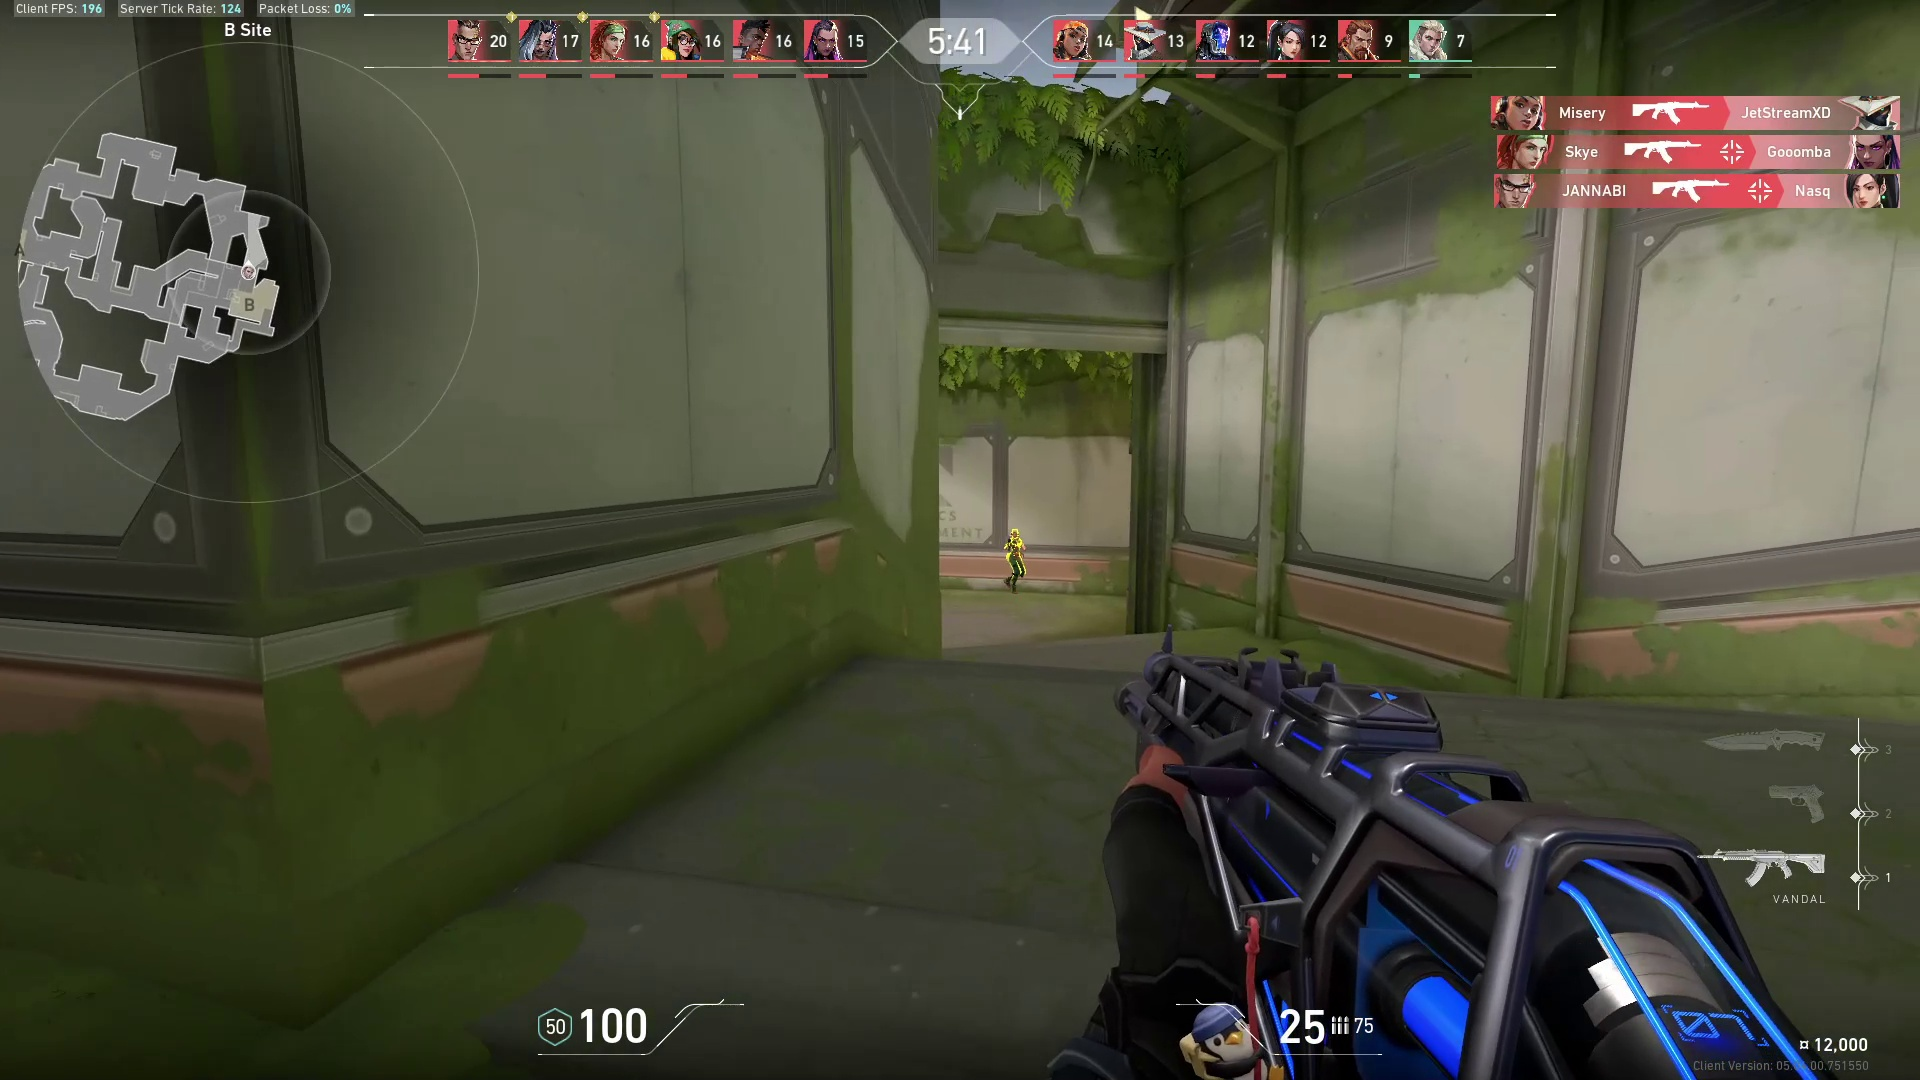enemy_body: (1002, 541, 1030, 593)
enemy_head: (1009, 527, 1021, 541)
